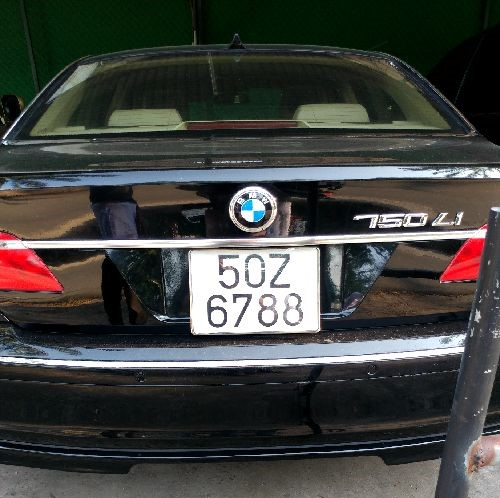number_plate: (183, 240, 331, 345)
